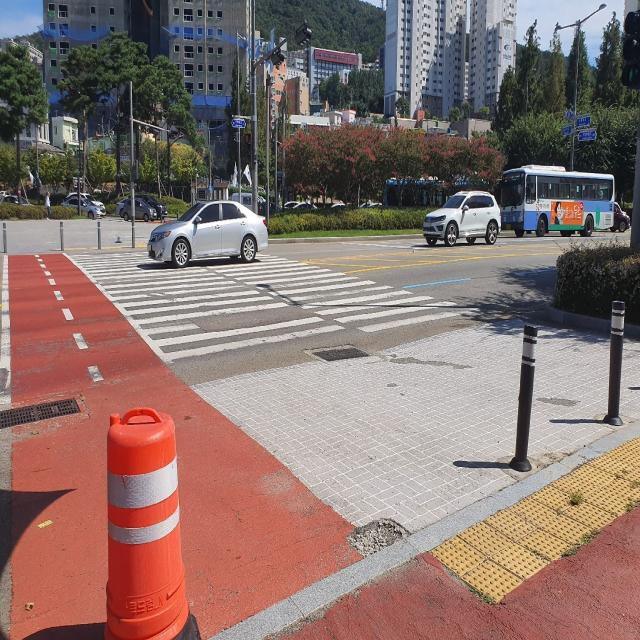횡단보도: (61, 246, 483, 370)
